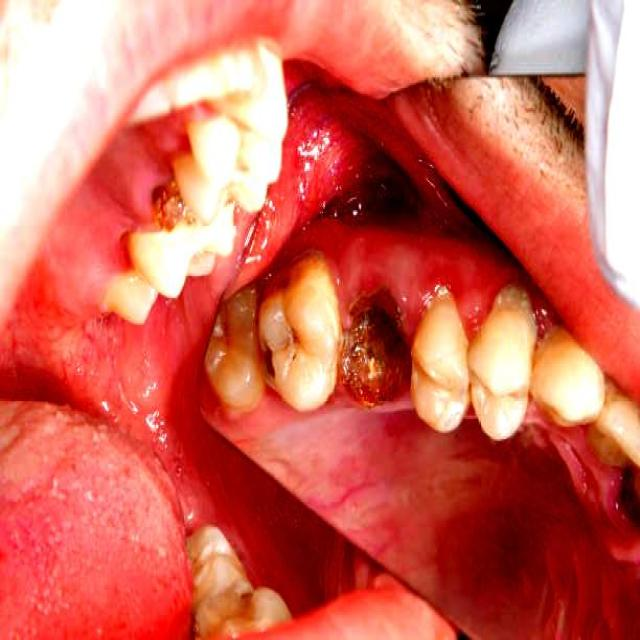caries: (332, 295, 418, 415), (148, 171, 219, 292), (252, 312, 304, 390)
